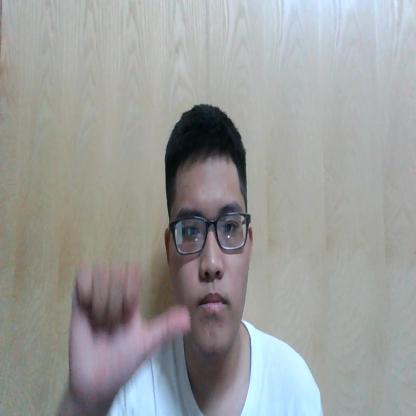left: (68, 254, 192, 400)
